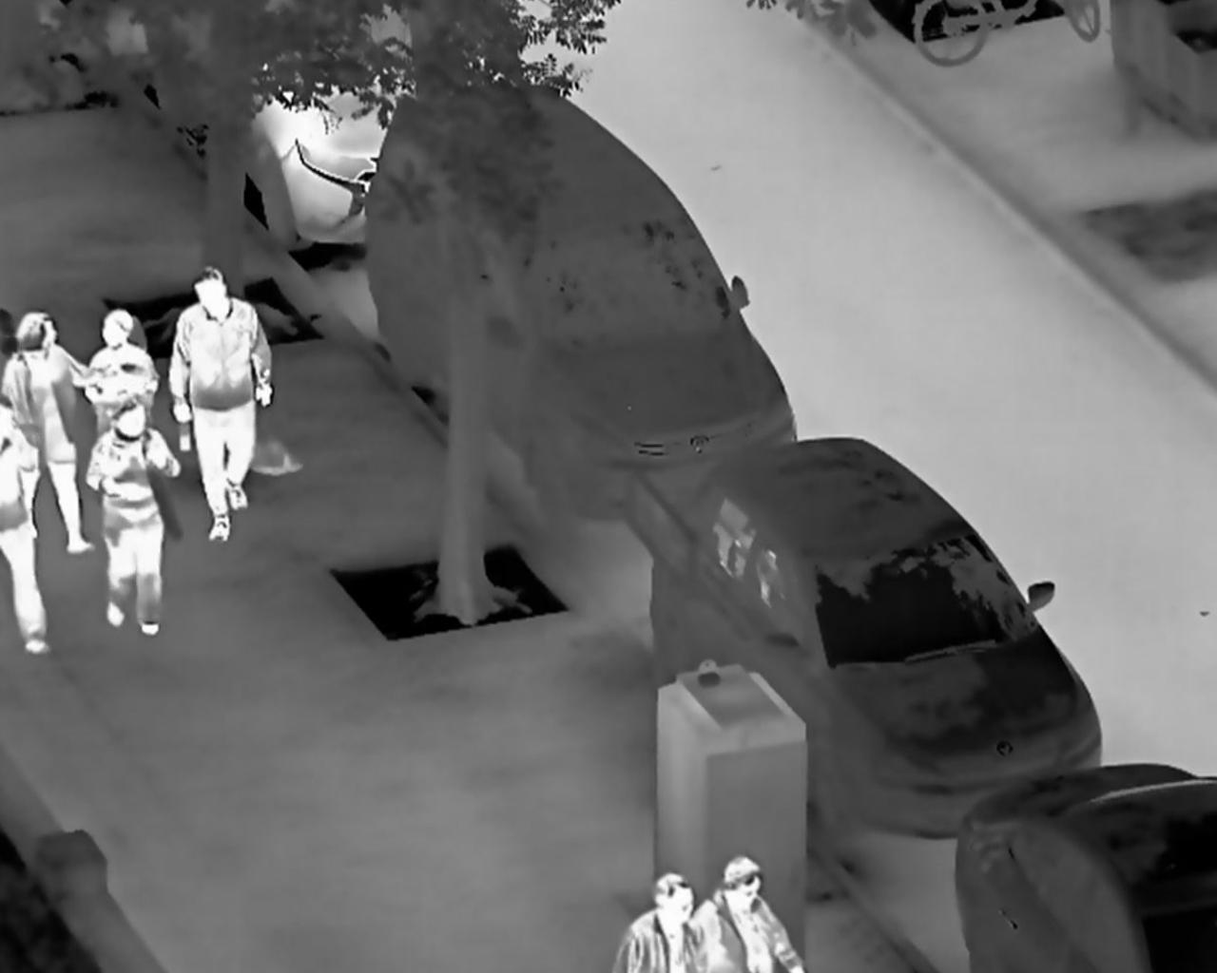person: (169, 266, 277, 544), (87, 396, 182, 641), (2, 306, 93, 557), (690, 854, 820, 971), (85, 298, 168, 433), (608, 867, 706, 973)
